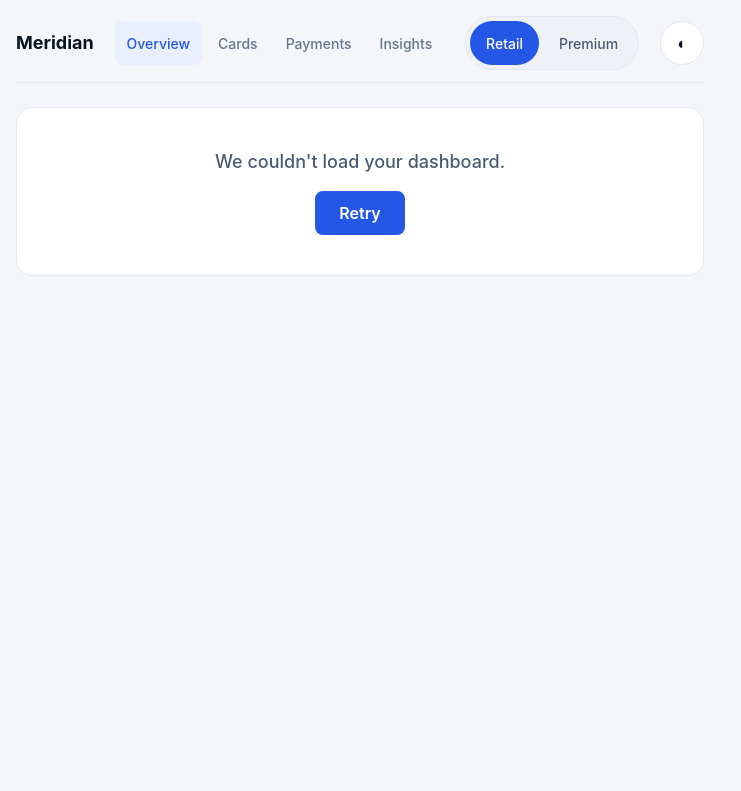
Test: App › shows an error when the dashboard fails to load and Retry recovers
This screenshot has width=741, height=791.
Later steps or results of the test are not shown.
Expected: the text "We couldn't load your dashboard." is shown, [215,148,505,175]
Click the button "Retry" at (360, 213), box [315,191,405,235]
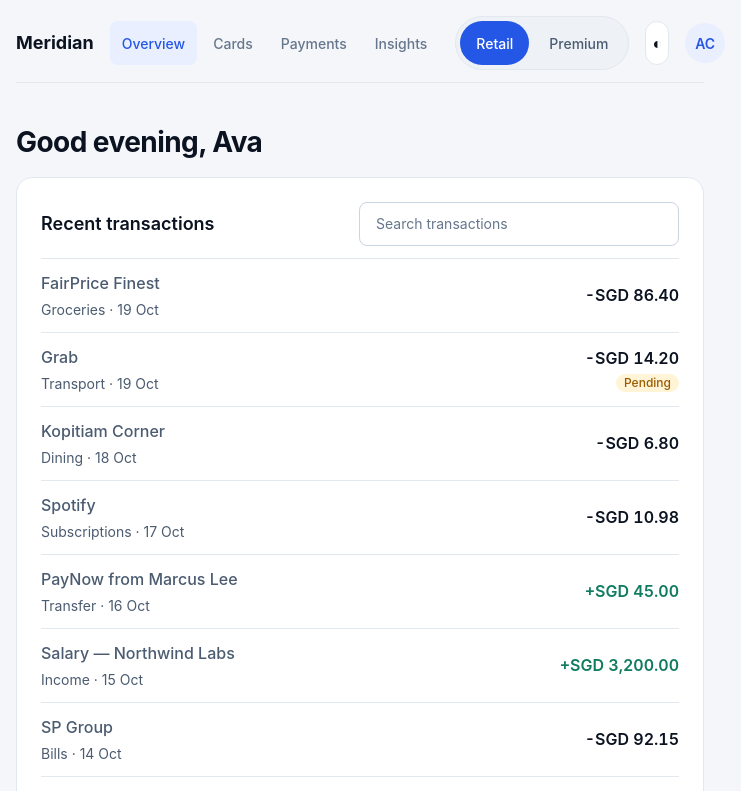
Expected: the text "We couldn't load your dashboard." is gone
